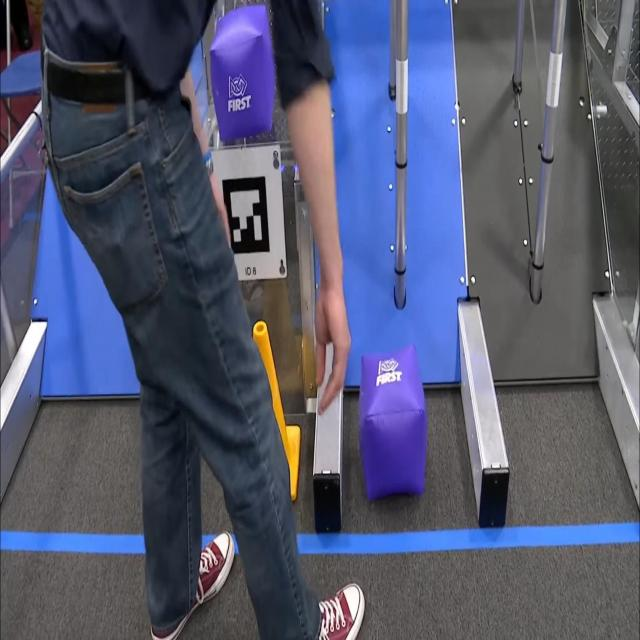frc_cone: (252, 319, 300, 496)
frc_cube: (360, 352, 426, 499), (213, 5, 274, 136)
